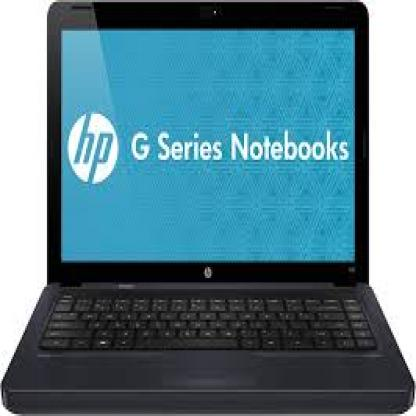NOTEBOOK: (11, 5, 416, 416)
